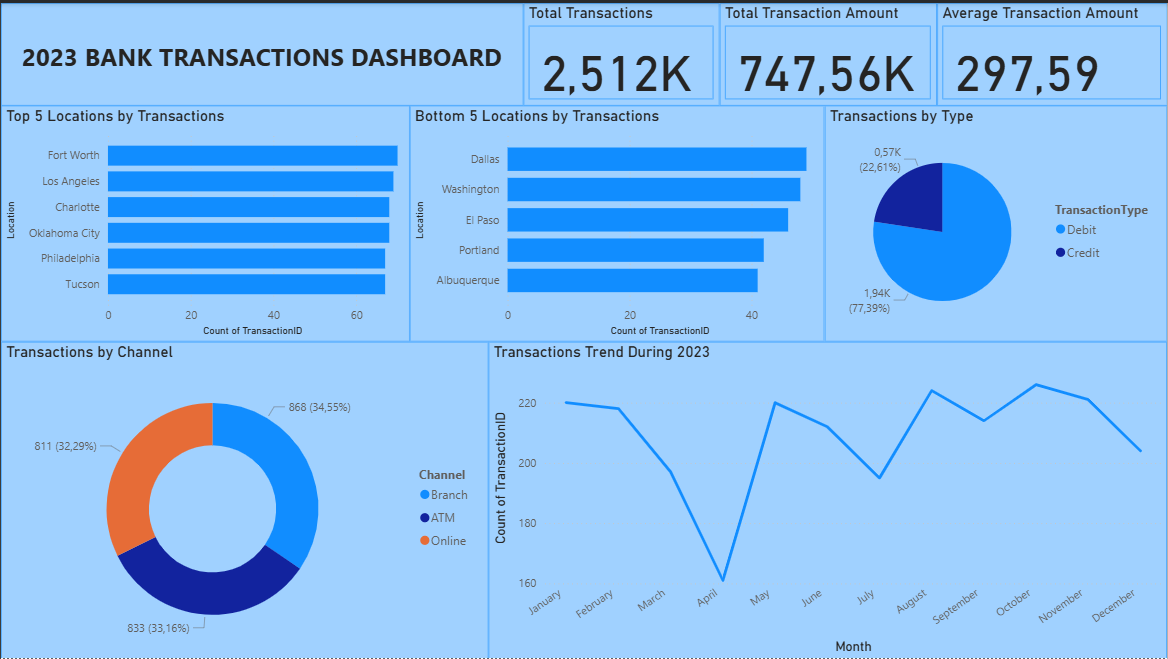

The page's visual inventory and layout, read from the dashboard file:
{"tool":"powerbi","page":{"name":"Page 1","canvas":[1280,720],"ordinal":0},"visuals":[{"type":"clusteredBarChart","title":"Top 5 Locations by Transactions","fields":{"Category":["Transactions.Location"],"Y":["CountNonNull(Transactions.TransactionID)"]},"box":[0,112.5,448.7,259.3],"z":0},{"type":"clusteredBarChart","title":"Bottom 5 Locations by Transactions","fields":{"Category":["Transactions.Location"],"Y":["CountNonNull(Transactions.TransactionID)"]},"box":[448.7,112.5,455.6,259.3],"z":1000},{"type":"donutChart","title":"Transactions by Channel","fields":{"Category":["Transactions.Channel"],"Y":["CountNonNull(Transactions.TransactionID)"]},"box":[0,371.9,535.2,348.5],"z":2000},{"type":"lineChart","title":"Transactions Trend During 2023","fields":{"Category":["Transactions.TransactionDate.Variation.Date Hierarchy.Month","Transactions.TransactionDate.Variation.Date Hierarchy.Day"],"Y":["CountNonNull(Transactions.TransactionID)"]},"box":[535.2,371.9,745.1,348.5],"z":3000},{"type":"pieChart","title":"Transactions by Type","fields":{"Category":["Transactions.TransactionType"],"Y":["CountNonNull(Transactions.TransactionID)"]},"box":[904.3,112.5,376,259.3],"z":4000},{"type":"cardVisual","title":"Total Transactions","fields":{"Data":["CountNonNull(Transactions.TransactionID)"]},"box":[573.6,0,215.4,112.5],"z":5000},{"type":"cardVisual","title":"Total Transaction Amount","fields":{"Data":["Sum(Transactions.TransactionAmount)"]},"box":[789,0,238.8,112.5],"z":6000},{"type":"cardVisual","title":"Average Transaction Amount","fields":{"Data":["Avg(Transactions.TransactionAmount)"]},"box":[1027.8,0,252.5,112.5],"z":7000},{"type":"textbox","box":[0,0,573.6,112.5],"z":8000}]}

Visuals, with their boxes in screenshot pixels (x1, y1, x2, y2), scaled from the page's 1280x720 canvas onto the 1168x659 screenshot:
"Top 5 Locations by Transactions" clusteredBarChart: pyautogui.locateOnScreen(0, 103, 409, 340)
"Bottom 5 Locations by Transactions" clusteredBarChart: pyautogui.locateOnScreen(409, 103, 825, 340)
"Transactions by Channel" donutChart: pyautogui.locateOnScreen(0, 340, 488, 658)
"Transactions Trend During 2023" lineChart: pyautogui.locateOnScreen(488, 340, 1167, 658)
"Transactions by Type" pieChart: pyautogui.locateOnScreen(825, 103, 1167, 340)
"Total Transactions" cardVisual: pyautogui.locateOnScreen(523, 0, 720, 103)
"Total Transaction Amount" cardVisual: pyautogui.locateOnScreen(720, 0, 938, 103)
"Average Transaction Amount" cardVisual: pyautogui.locateOnScreen(938, 0, 1167, 103)
textbox: pyautogui.locateOnScreen(0, 0, 523, 103)
